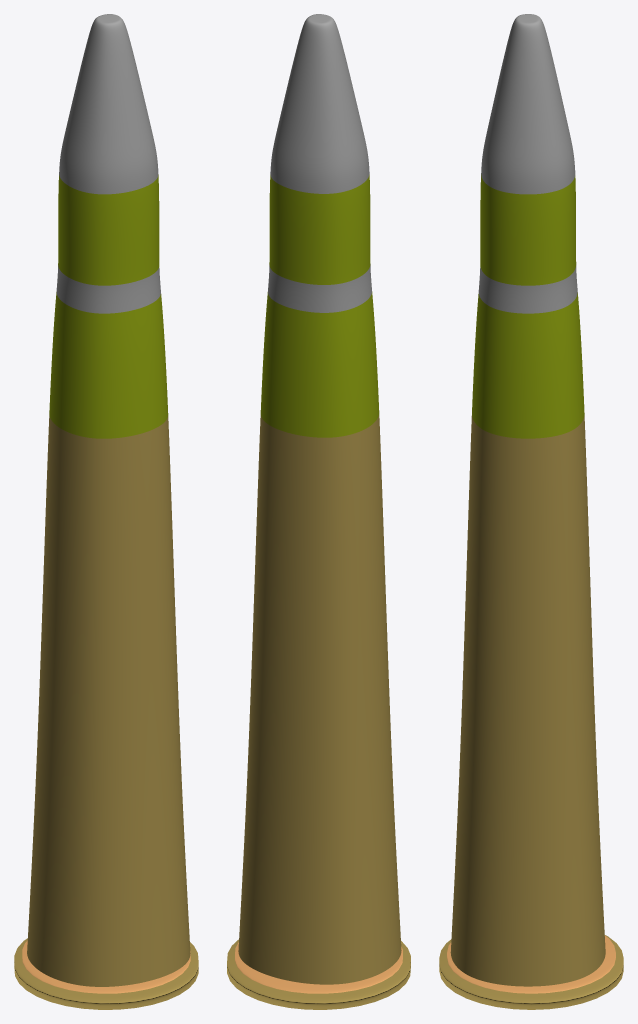
File: Shell.fbx_Scene_Master_Collection.fbx
The picture shows the model from 3 angles, left to right: view 1: azimuth 30°, elevation 25°; view 2: azimuth 150°, elevation 25°; view 3: azimuth 270°, elevation 25°; orthographic projection.
Parts seen in each view (by area): view 1: Shell, Shell Base, Shell Base 2; view 2: Shell, Shell Base, Shell Base 2; view 3: Shell, Shell Base, Shell Base 2.
Part boxes in pixels (box(x1,y1,x2,y2)): Shell: box(27, 14, 190, 986); Shell Base: box(14, 938, 198, 1009); Shell Base 2: box(22, 940, 190, 993); Shell: box(238, 14, 401, 984); Shell Base: box(227, 939, 410, 1009); Shell Base 2: box(235, 942, 402, 993); Shell: box(450, 14, 605, 986); Shell Base: box(439, 935, 623, 1009); Shell Base 2: box(447, 935, 615, 993).
Bounding box in the file's own units: 30.63 × 175 × 30.63.
